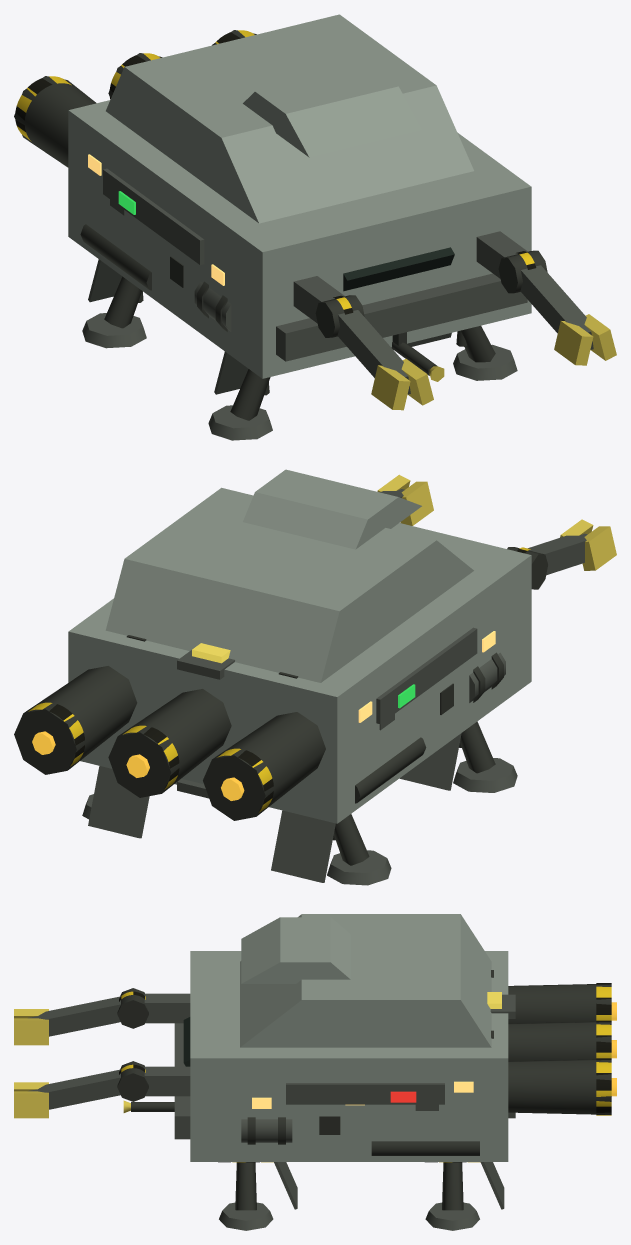
Rendered from tug-s.glb.
The picture shows the model from 3 angles, top to bottom: view 1: azimuth 30°, elevation 25°; view 2: azimuth 150°, elevation 25°; view 3: azimuth 270°, elevation 25°; orthographic projection. The views are drawn at different scales.
Visible parts, largest first — view 1: hullMain, hullUpper, canopyFairing, accentStripe, armFore (×2), gearFoot (×3), engineHousing, gearStrut (×3), hazardFlankL, armUpper (×2), armJawA (×2), armKnuckle (×2) (+6 smaller); view 2: hullMain, hullUpper, engineHousing (×3), canopyFairing, gearBayDoor (×3), gearFoot (×2), hazardFlankL, gearStrut (×2), armJawA (×2), armFore, tugShipServicePipeL, iffPlinthDorsal (+2 smaller); view 3: hullMain, hullUpper, engineHousing (×3), canopyFairing, armFore (×2), hazardFlankR, armUpper (×2), gearFoot (×2), gearStrut (×2), armJawB (×2), armKnuckle (×2), tugShipServicePipeR (+4 smaller).
Part boxes in pixels (x1,y1,x2,y2): hullMain: (68, 100, 531, 378); hullUpper: (106, 14, 473, 223); canopyFairing: (243, 64, 421, 157); accentStripe: (276, 273, 527, 361); armFore (×2): (337, 265, 593, 394); gearFoot (×3): (82, 313, 517, 440); engineHousing: (14, 76, 96, 167); gearStrut (×3): (104, 276, 495, 420); hazardFlankL: (103, 168, 204, 264); armUpper (×2): (293, 231, 527, 323); armJawA (×2): (371, 321, 593, 410); armKnuckle (×2): (315, 250, 547, 337); hullMain: (68, 523, 531, 823); hullUpper: (105, 487, 473, 682); engineHousing (×3): (14, 666, 325, 820); canopyFairing: (243, 469, 421, 549); gearBayDoor (×3): (88, 733, 461, 882); gearFoot (×2): (327, 758, 517, 885); hazardFlankL: (376, 627, 477, 724); gearStrut (×2): (334, 721, 495, 865); armJawA (×2): (400, 481, 616, 570); armFore: (528, 533, 587, 575); tugShipServicePipeL: (355, 737, 426, 803); iffPlinthDorsal: (177, 650, 234, 679); hullMain: (190, 951, 508, 1161); hullUpper: (240, 914, 491, 1047); engineHousing (×3): (508, 984, 611, 1114); canopyFairing: (241, 917, 350, 983); armFore (×2): (28, 996, 120, 1109); hazardFlankR: (286, 1083, 444, 1104); armUpper (×2): (144, 993, 190, 1096); gearFoot (×2): (219, 1202, 479, 1230); gearStrut (×2): (235, 1162, 463, 1210); armJawB (×2): (14, 1018, 48, 1118); armKnuckle (×2): (117, 988, 148, 1101); tugShipServicePipeR: (371, 1141, 479, 1155).
Size of the model in its own units: 1.8 by 1.6 by 3.79.
